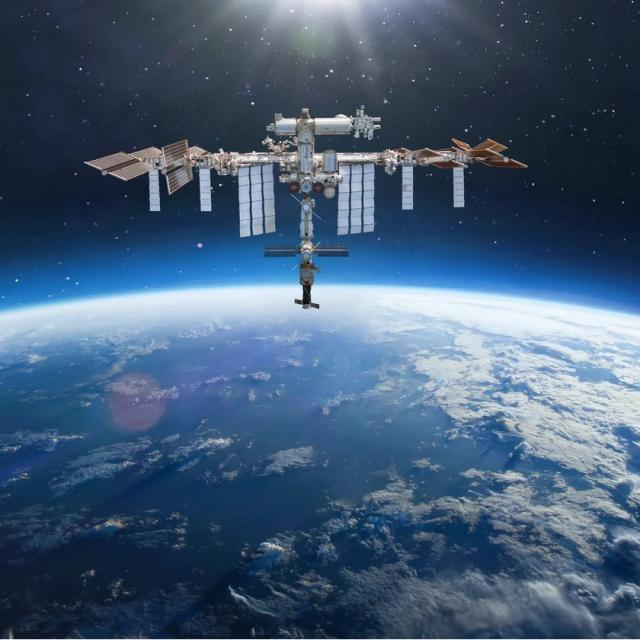satellite: (86, 109, 526, 308)
